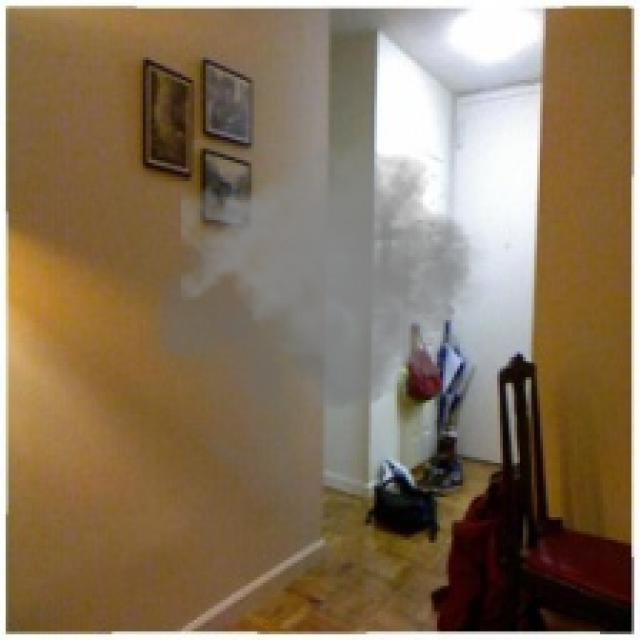Smoke: (137, 134, 497, 506)
